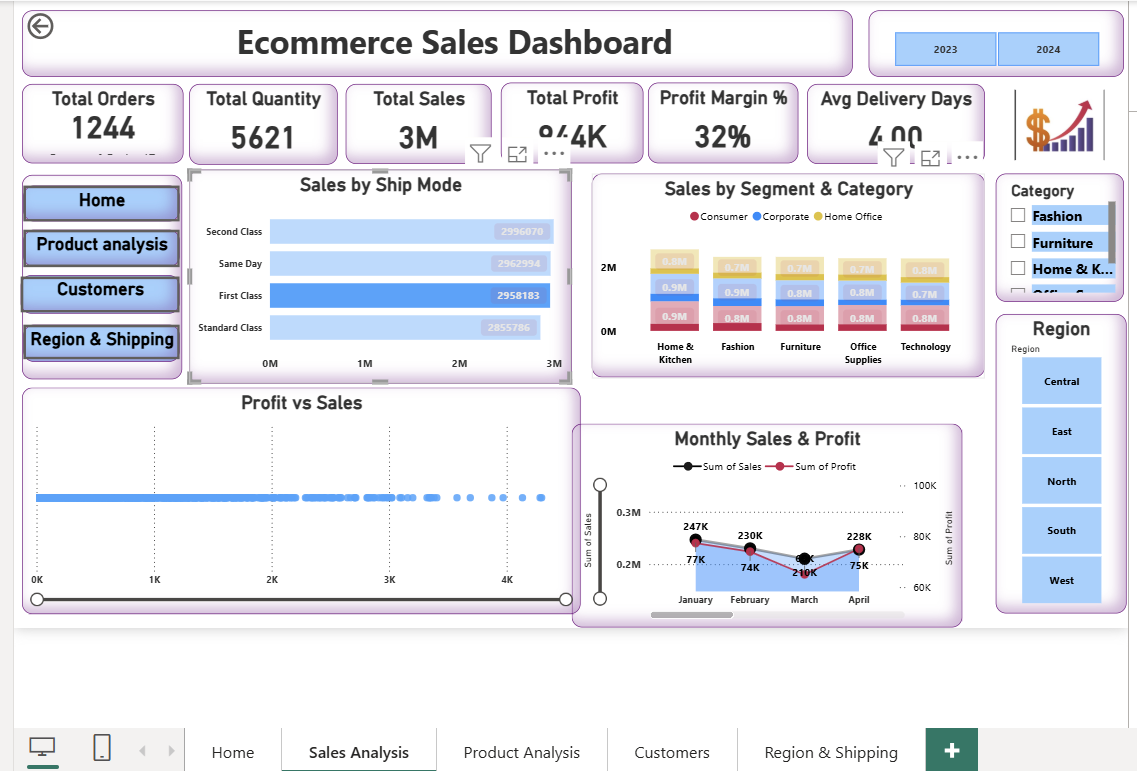

The dashboard page shown, as its layout file describes it:
{"tool":"powerbi","page":{"name":"Sales Analysis","canvas":[1280,720],"ordinal":1},"visuals":[{"type":"textbox","box":[9.7,10.9,954.3,76],"z":0},{"type":"slicer","fields":{"Values":["Sheet1.Year"]},"box":[980.8,10.9,293.2,76],"z":1000},{"type":"card","title":"Total Quantity","fields":{"Values":["Sum(Sheet1.Quantity)"]},"box":[201.5,95.3,170.1,92.9],"z":2000},{"type":"card","title":"Total Sales","fields":{"Values":["Sum(Sheet1.Sales)"]},"box":[381.2,95.3,167.7,91.7],"z":3000},{"type":"card","title":"Total Profit","fields":{"Values":["Sum(Sheet1.Profit)"]},"box":[558.6,94.1,164.1,92.9],"z":4000},{"type":"card","title":"Profit Margin %","fields":{"Values":["Sheet1.Profit Margin"]},"box":[728.7,94.1,172.5,92.9],"z":5000},{"type":"card","title":"Avg Delivery Days","fields":{"Values":["Sheet1.Average Delivery Days"]},"box":[910.9,95.3,203.9,91.7],"z":6000},{"type":"shape","box":[9.6,199,183.9,234.6],"z":7000},{"type":"shape","title":"Region & Shipping","box":[11,371.9,179.8,42.5],"z":8000},{"type":"shape","title":"Product analysis","box":[11,262.1,179.8,42.5],"z":9000},{"type":"shape","title":"Home","box":[11,211.3,179.8,41.2],"z":10000},{"type":"shape","title":"Customers","box":[8.2,315.6,182.5,43.9],"z":11000},{"type":"lineChart","title":"Monthly Sales & Profit","fields":{"Category":["Sheet1.Order Date.Variation.Date Hierarchy.Month"],"Y":["Sum(Sheet1.Sales)"],"Y2":["Sum(Sheet1.Profit)"]},"box":[201.4,198.6,448.6,234.3],"z":12000},{"type":"columnChart","title":"Sales by Segment & Category","fields":{"Category":["Sheet1.Category"],"Series":["Sheet1.Segment"],"Y":["Sum(Sheet1.Sales)"]},"box":[664.3,198.6,451.4,234.3],"z":13000},{"type":"scatterChart","title":"Profit vs Sales","fields":{"Category":["Sheet1.Sales"],"X":["Sum(Sheet1.Profit)"]},"box":[8.6,444.3,641.4,260],"z":14000},{"type":"barChart","title":"Sales by Ship Mode","fields":{"Category":["Sheet1.Ship Mode"],"Y":["Sum(Sheet1.Sales)"]},"box":[664,444,451,260],"z":15000},{"type":"slicer","fields":{"Values":["Sheet1.Category"]},"box":[1127.1,198.6,147.1,147.1],"z":16000},{"type":"slicer","title":"Region","fields":{"Values":["Sheet1.Region"]},"box":[1127.1,360,150,344.3],"z":17000},{"type":"card","title":"Total Orders","fields":{"Values":["Count(Sheet1.Order ID)"]},"box":[8.6,95.7,185.7,91.4],"z":18000},{"type":"image","box":[1127.5,96.2,146.2,91.2],"z":19000},{"type":"actionButton","box":[11,9.6,64.5,39.8],"z":20000},{"type":"actionButton","box":[10.8,212,179.7,41.5],"z":21000},{"type":"actionButton","box":[10.8,262.7,179.7,43],"z":22000},{"type":"actionButton","box":[7.7,316.4,182.8,41.5],"z":23000},{"type":"actionButton","box":[10.8,371.7,179.7,39.9],"z":24000}]}

Visuals, with their boxes on the page's 1280x720 design canvas (x1, y1, x2, y2). These are canvas units, not pixel positions in the 1137x771 screenshot, which may show the page scaled, cropped or inside an application window:
textbox: [x1=10, y1=11, x2=964, y2=87]
slicer - Sheet1.Year: [x1=981, y1=11, x2=1274, y2=87]
"Total Quantity" card: [x1=202, y1=95, x2=372, y2=188]
"Total Sales" card: [x1=381, y1=95, x2=549, y2=187]
"Total Profit" card: [x1=559, y1=94, x2=723, y2=187]
"Profit Margin %" card: [x1=729, y1=94, x2=901, y2=187]
"Avg Delivery Days" card: [x1=911, y1=95, x2=1115, y2=187]
shape: [x1=10, y1=199, x2=194, y2=434]
"Region & Shipping" shape: [x1=11, y1=372, x2=191, y2=414]
"Product analysis" shape: [x1=11, y1=262, x2=191, y2=305]
"Home" shape: [x1=11, y1=211, x2=191, y2=252]
"Customers" shape: [x1=8, y1=316, x2=191, y2=360]
"Monthly Sales & Profit" lineChart: [x1=201, y1=199, x2=650, y2=433]
"Sales by Segment & Category" columnChart: [x1=664, y1=199, x2=1116, y2=433]
"Profit vs Sales" scatterChart: [x1=9, y1=444, x2=650, y2=704]
"Sales by Ship Mode" barChart: [x1=664, y1=444, x2=1115, y2=704]
slicer - Sheet1.Category: [x1=1127, y1=199, x2=1274, y2=346]
"Region" slicer: [x1=1127, y1=360, x2=1277, y2=704]
"Total Orders" card: [x1=9, y1=96, x2=194, y2=187]
image: [x1=1128, y1=96, x2=1274, y2=187]
actionButton: [x1=11, y1=10, x2=76, y2=49]
actionButton: [x1=11, y1=212, x2=190, y2=254]
actionButton: [x1=11, y1=263, x2=190, y2=306]
actionButton: [x1=8, y1=316, x2=190, y2=358]
actionButton: [x1=11, y1=372, x2=190, y2=412]
